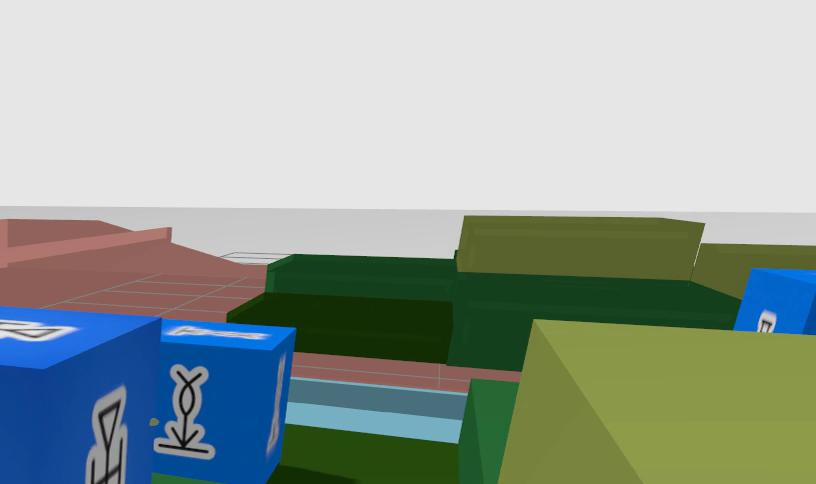KFS_REAL: (0, 306, 160, 484), (150, 321, 295, 484), (154, 364, 213, 458), (85, 386, 128, 484)
